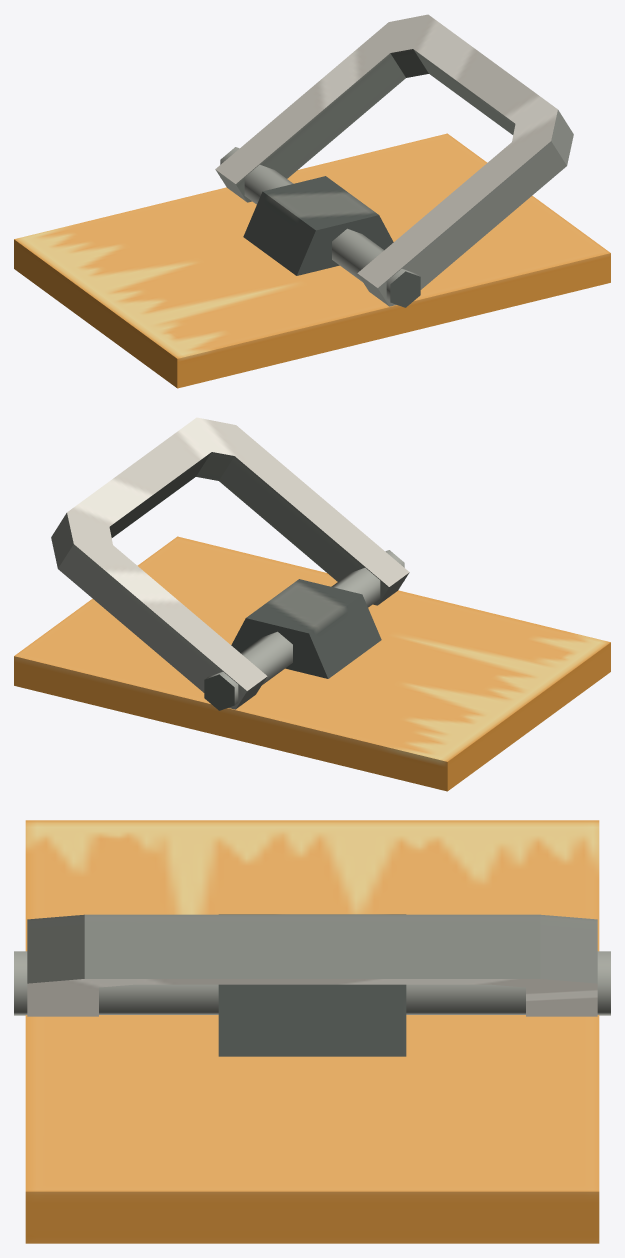
Rendered from Clip.FBX.
The picture shows the model from 3 angles, top to bottom: view 1: azimuth 30°, elevation 25°; view 2: azimuth 150°, elevation 25°; view 3: azimuth 270°, elevation 25°; orthographic projection. The views are drawn at different scales.
Visible parts, largest first — view 1: Clip; view 2: Clip; view 3: Clip.
Part boxes in pixels (<box>): Clip: <box>14,14,610,388</box>; Clip: <box>14,417,610,791</box>; Clip: <box>14,820,610,1243</box>.
Size of the model in its own units: 0.6124 by 0.2292 by 0.4162.
